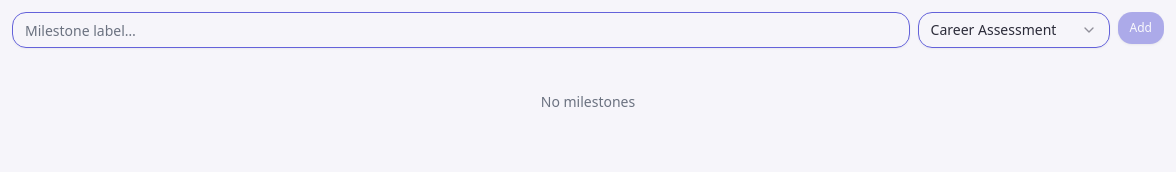
it: MilestoneList › Add button enables when label is not empty
Type "New goal" into the field labelled "Milestone label…" at x=461, y=30, box [12,12,910,48]
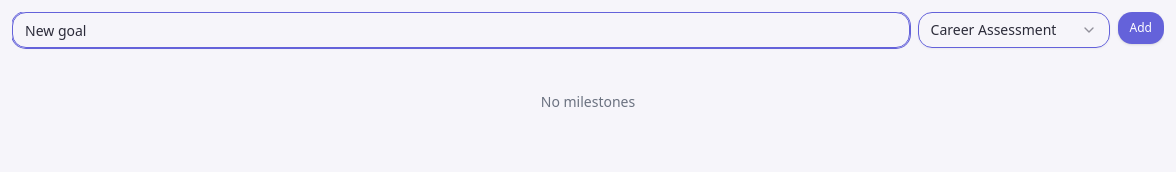
Now the button "Add" is enabled, box [1118,12,1164,44]
